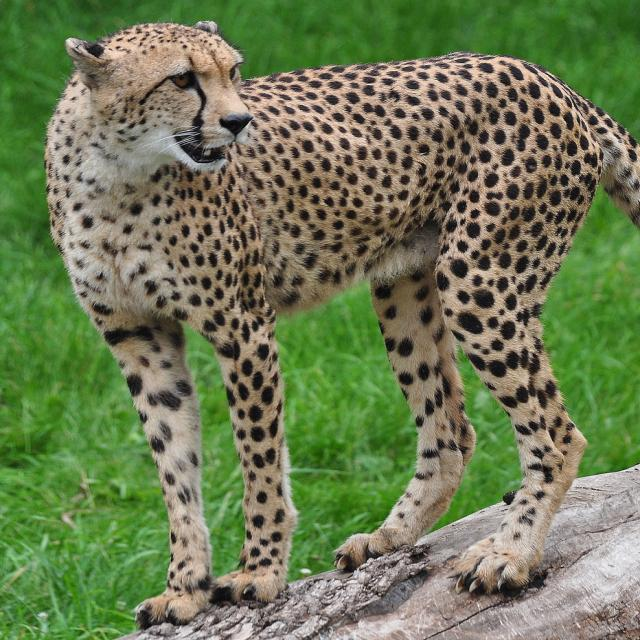Cheetah: (42, 20, 639, 631)
